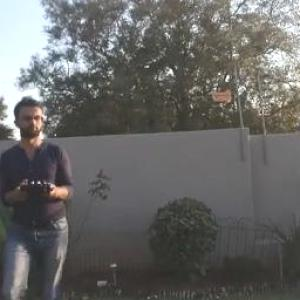follow: (1, 92, 79, 298)
